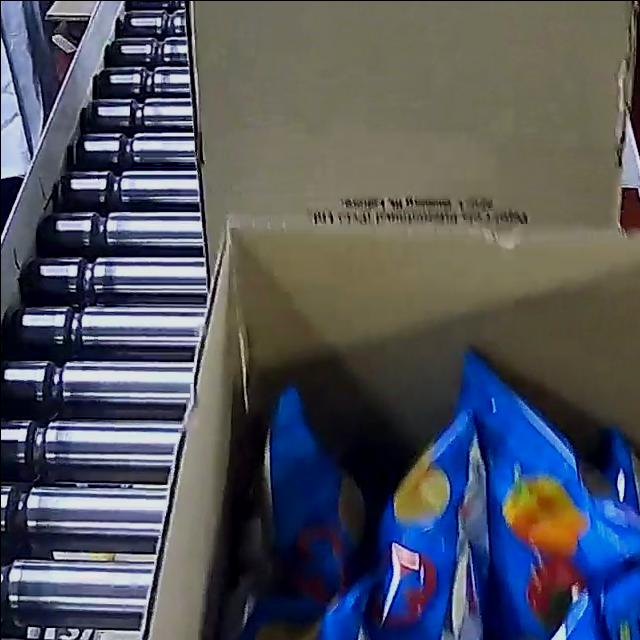paprika: (201, 345, 640, 640)
